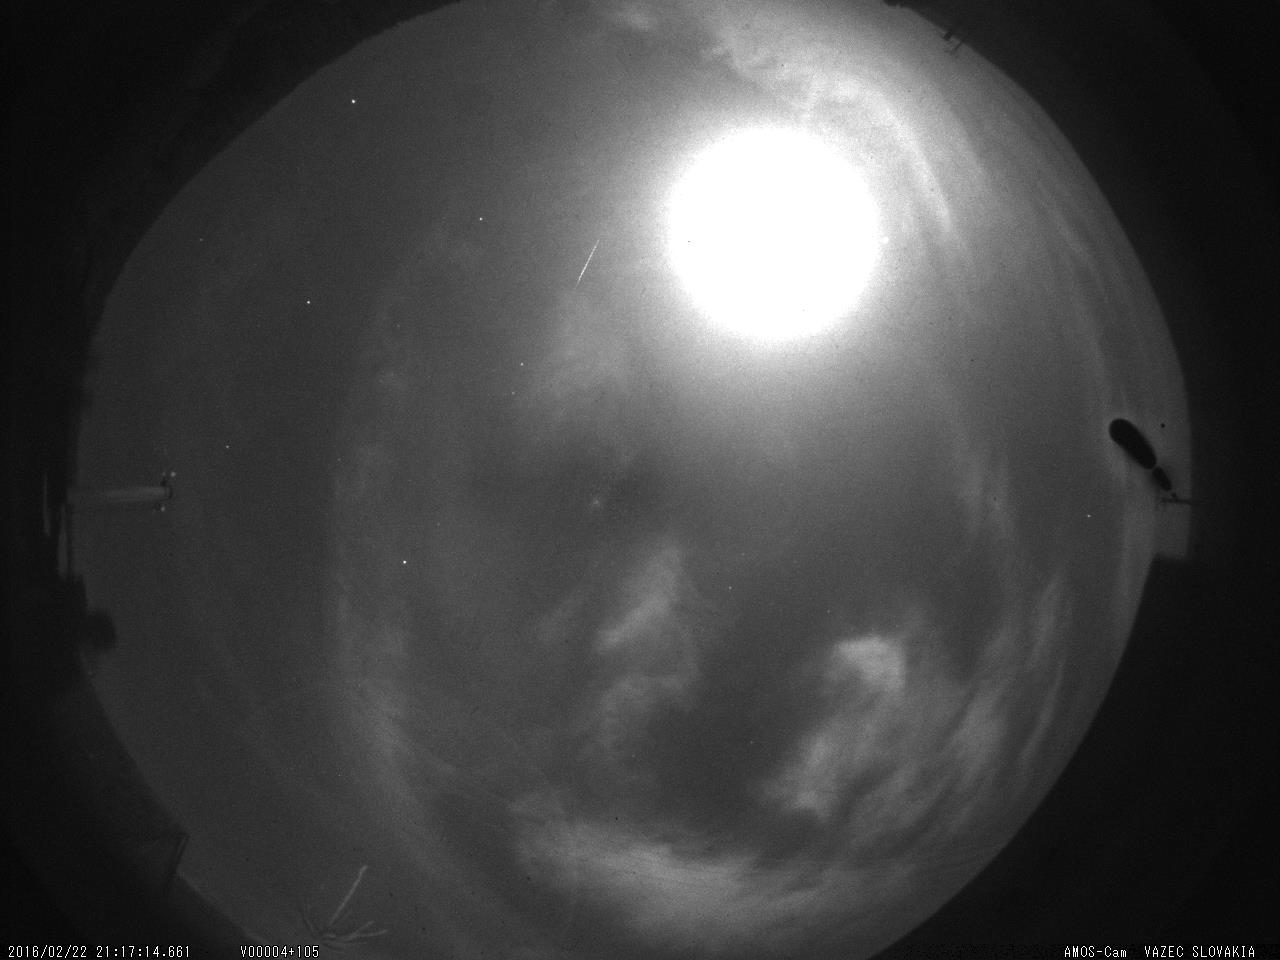meteor: (574, 228, 609, 292)
